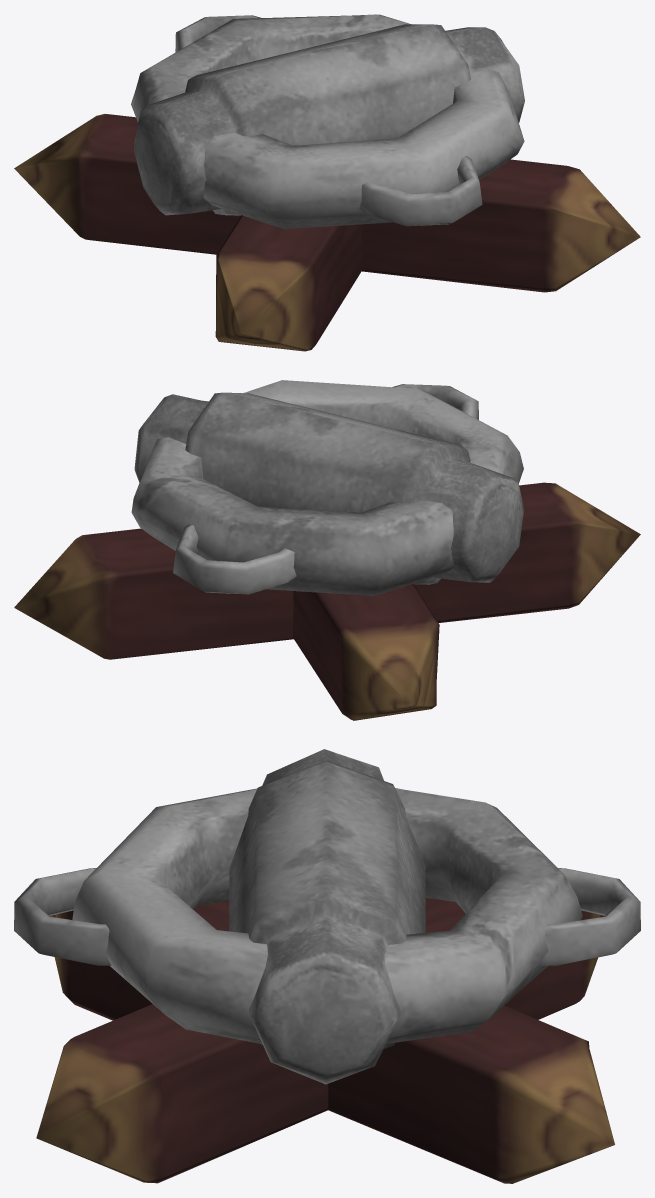
Rendered from MOD_PylonRing.fbx.
3 views of the same model, one above another, from view 1: azimuth 30°, elevation 25°; view 2: azimuth 150°, elevation 25°; view 3: azimuth 270°, elevation 25° (orthographic). The views are drawn at different scales.
Parts seen in each view (by area): view 1: MOD_PylonRing; view 2: MOD_PylonRing; view 3: MOD_PylonRing.
Boxes of the visible parts, x1=… form: MOD_PylonRing: x1=14, y1=14, x2=640, y2=351; MOD_PylonRing: x1=14, y1=380, x2=640, y2=720; MOD_PylonRing: x1=14, y1=749, x2=640, y2=1183.
Bounding box in the file's own units: 88.24 × 42.18 × 95.01.
Materials: 1 (1 with a texture image).
